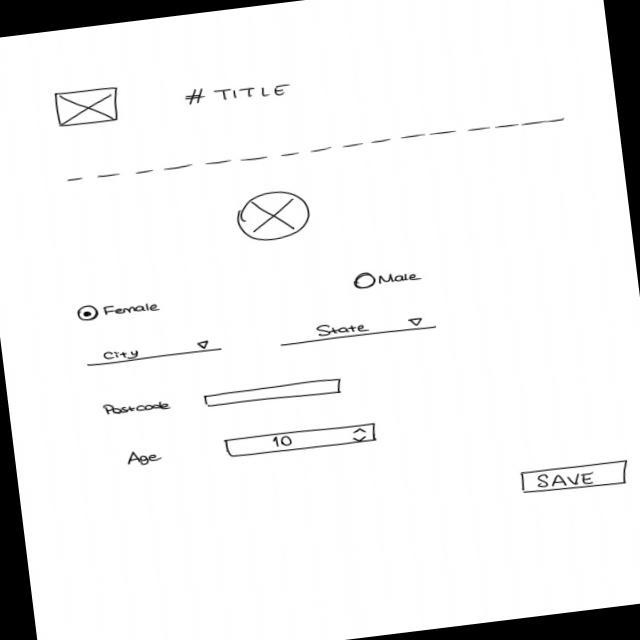button: (517, 457, 633, 498)
image: (232, 186, 314, 244), (51, 83, 122, 129)
input: (202, 376, 344, 412)
label: (180, 75, 294, 109), (100, 393, 172, 418), (122, 446, 165, 468)
number-input: (221, 419, 380, 461)
radio: (72, 294, 163, 325), (351, 264, 428, 290)
select: (276, 310, 438, 348), (84, 334, 225, 368)
